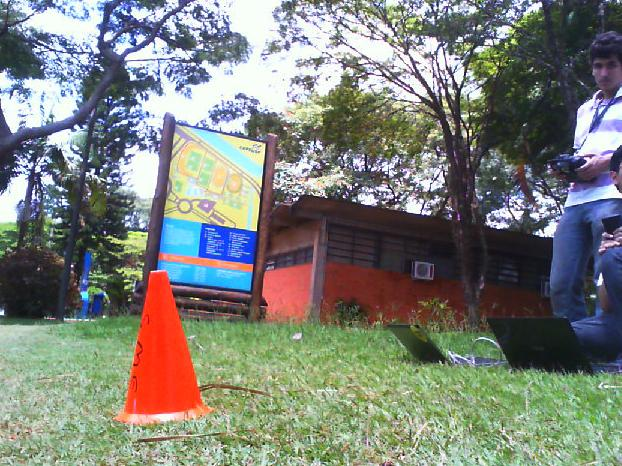0 cone: (116, 270, 212, 424)
